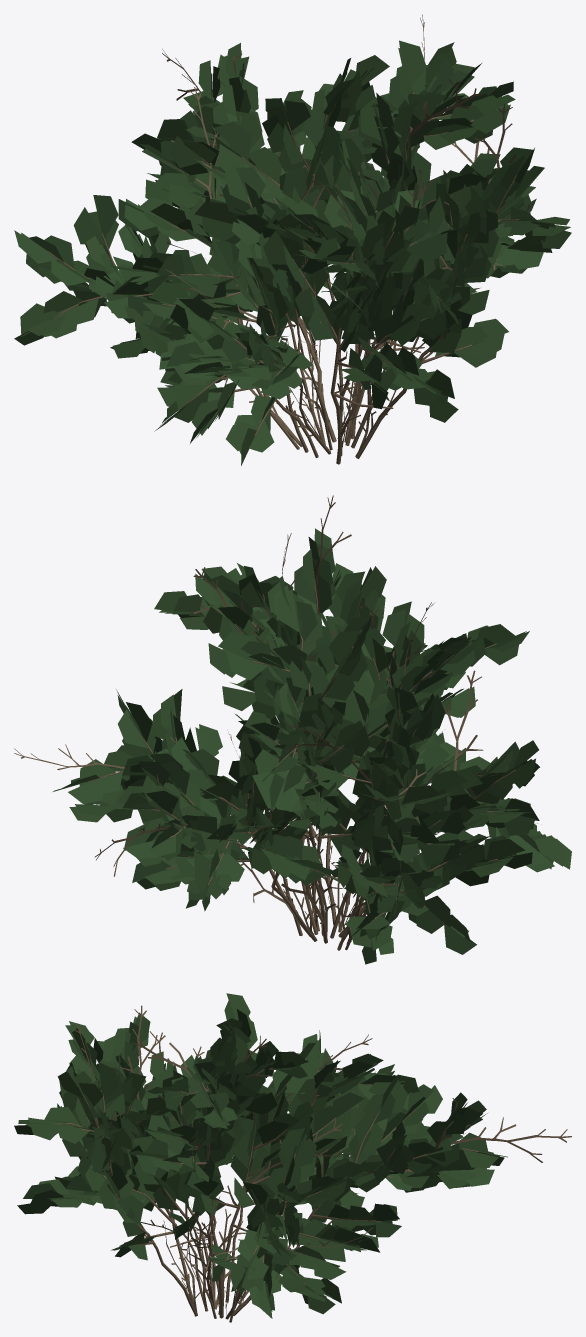
Rendered from bush_2.glb.
The picture shows the model from 3 angles, top to bottom: view 1: azimuth 30°, elevation 25°; view 2: azimuth 150°, elevation 25°; view 3: azimuth 270°, elevation 25°; orthographic projection. The views are drawn at different scales.
Parts seen in each view (by area): view 1: wild_rooibos_bush_a; view 2: wild_rooibos_bush_a; view 3: wild_rooibos_bush_a.
Boxes of the visible parts, <box> form: wild_rooibos_bush_a: <box>14,14,571,465</box>; wild_rooibos_bush_a: <box>14,495,571,964</box>; wild_rooibos_bush_a: <box>14,993,571,1322</box>.
Bounding box in the file's own units: 0.6966 × 0.5395 × 0.8434.
